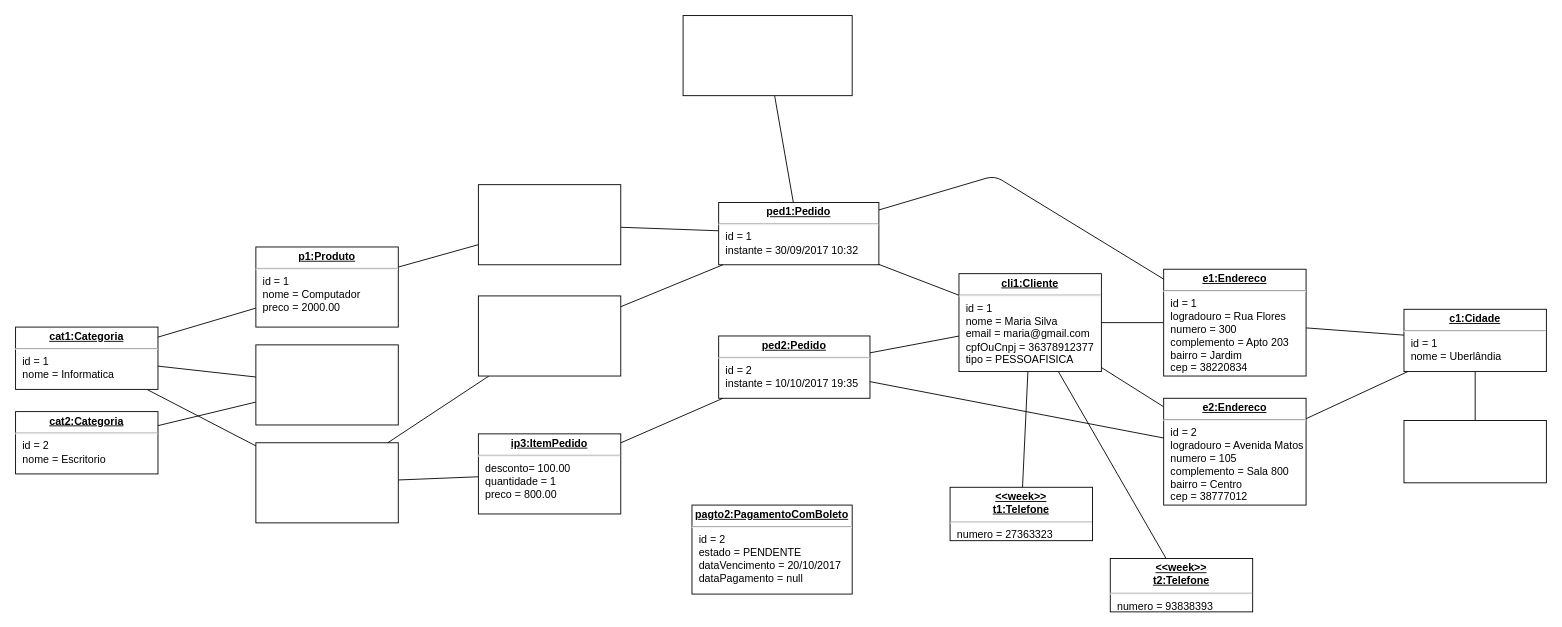
Some shapes in this 1562 by 627 pixel diagram are drawn without their labels. Each missing label, with the centre of its shape:
es1:Estado id = 1 nome = Minas Gerais: pixel 1474 451
ip1:ItemPedido desconto= 0.00 quantidade = 1 preco = 2000.00: pixel 549 224
ip2:ItemPedido desconto= 0.00 quantidade = 2 preco = 80.00: pixel 549 335
p2:Produto id = 2 nome = Impressora preco = 800.00: pixel 326 384
p3:Produto id = 3 nome = Mouse preco = 80.00: pixel 326 482
pagto1:PagamentoComCartao id = 1 estado = QUITADO numeroDeParcelas = 6: pixel 767 55
